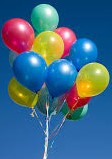Balloon: (12, 51, 45, 91), (76, 62, 110, 97), (46, 59, 77, 95), (2, 18, 33, 52), (33, 32, 64, 61), (31, 4, 59, 31), (70, 38, 98, 65)
